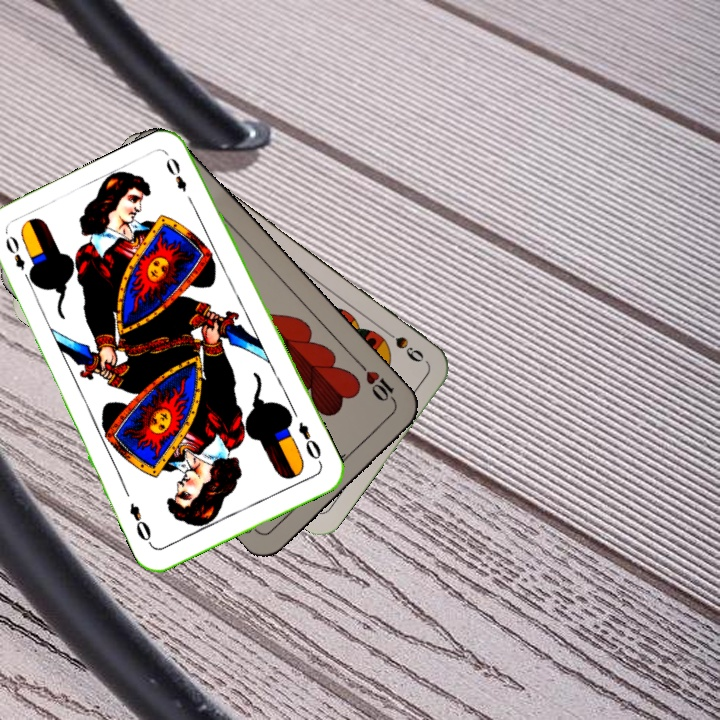EO: (1, 231, 35, 286), (294, 418, 325, 468)
H10: (355, 359, 400, 408)
S9: (378, 324, 427, 365)
